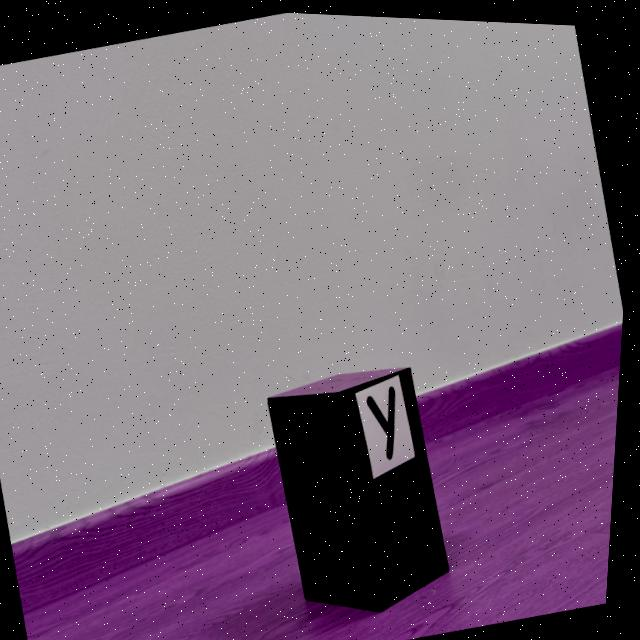Y: (371, 382, 400, 455)
